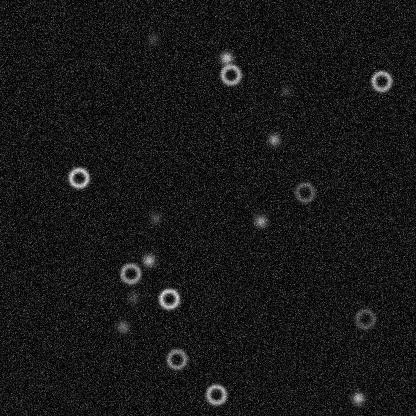Ring: (292, 180, 316, 204), (66, 165, 90, 189), (218, 62, 242, 86), (353, 306, 377, 330), (118, 261, 142, 285), (204, 382, 228, 406), (164, 347, 188, 371), (156, 286, 180, 310), (369, 68, 393, 92)
Spot: (218, 49, 234, 65), (114, 318, 130, 334), (144, 31, 160, 47), (349, 390, 365, 406), (277, 83, 293, 99), (147, 209, 163, 225), (252, 213, 268, 229), (265, 131, 281, 147), (140, 252, 156, 268), (125, 289, 141, 305)
